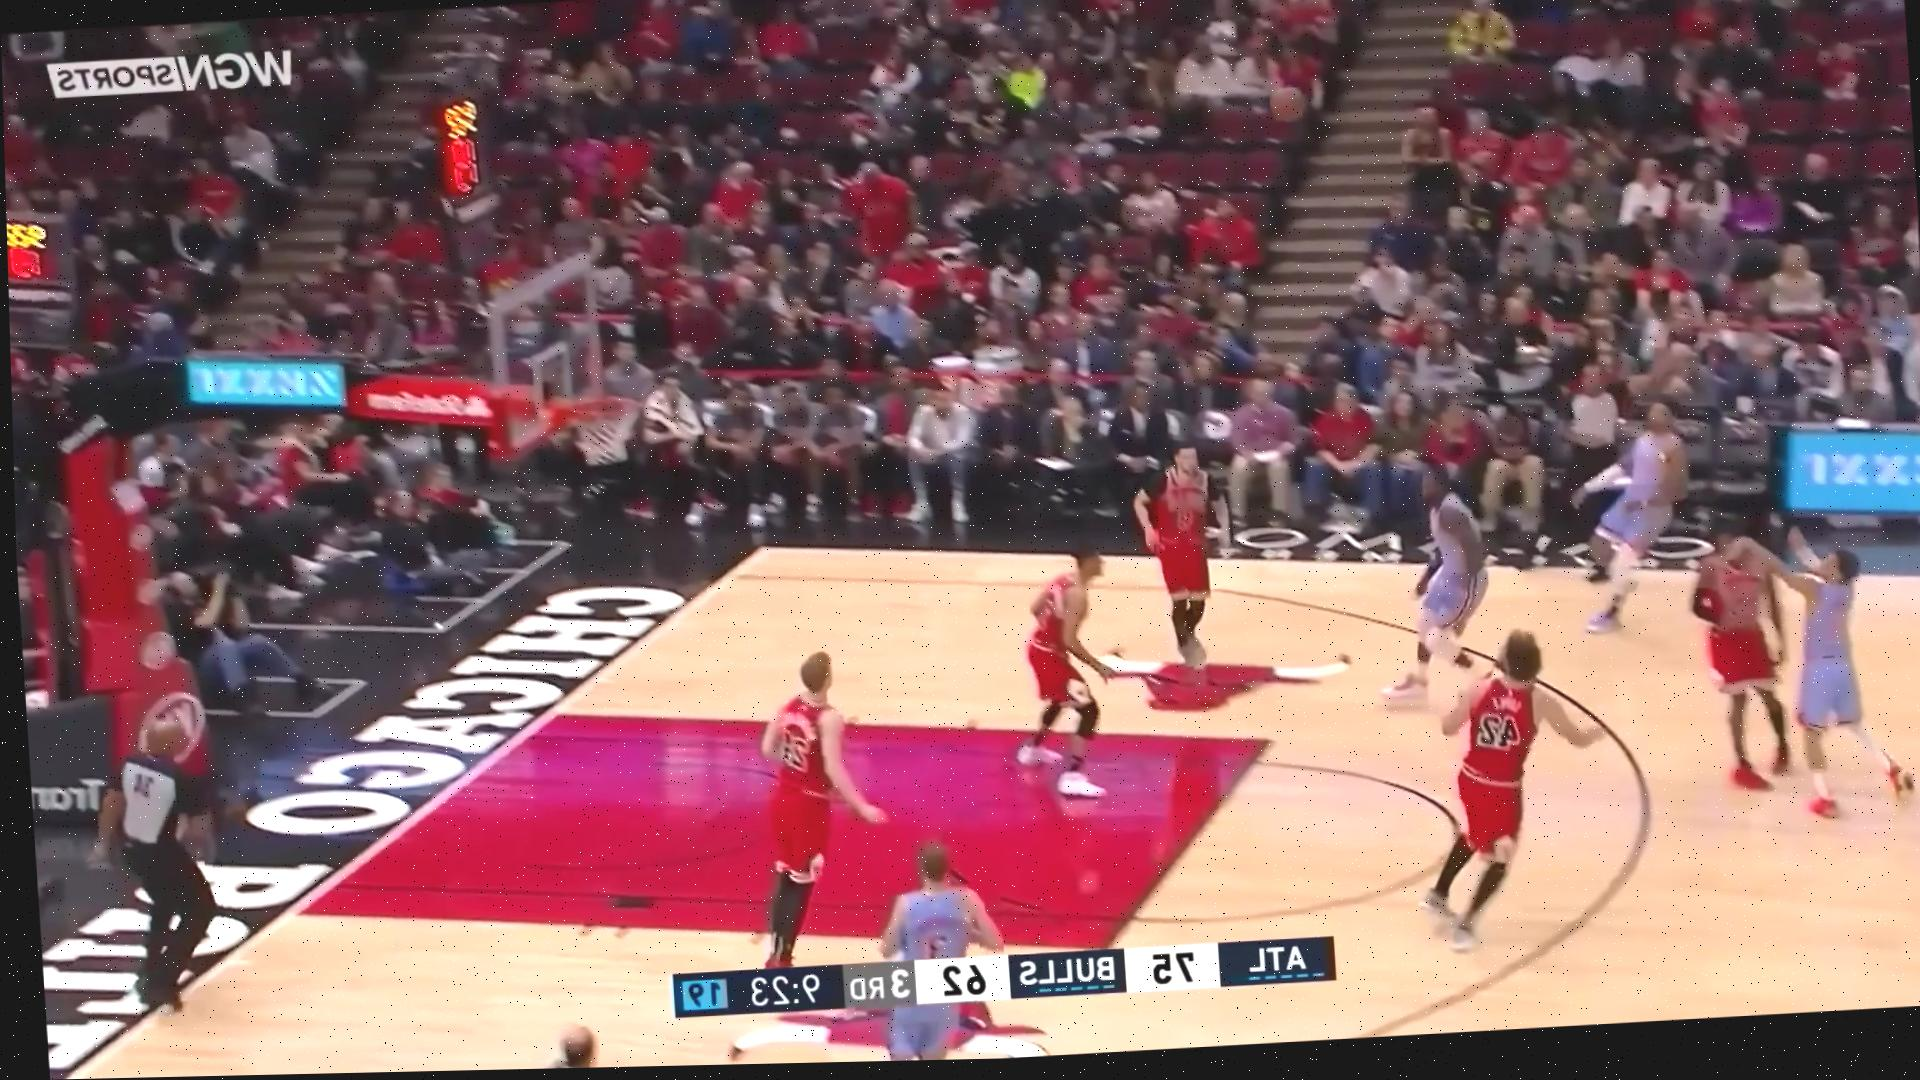no_foul: (1671, 478, 1907, 814)
